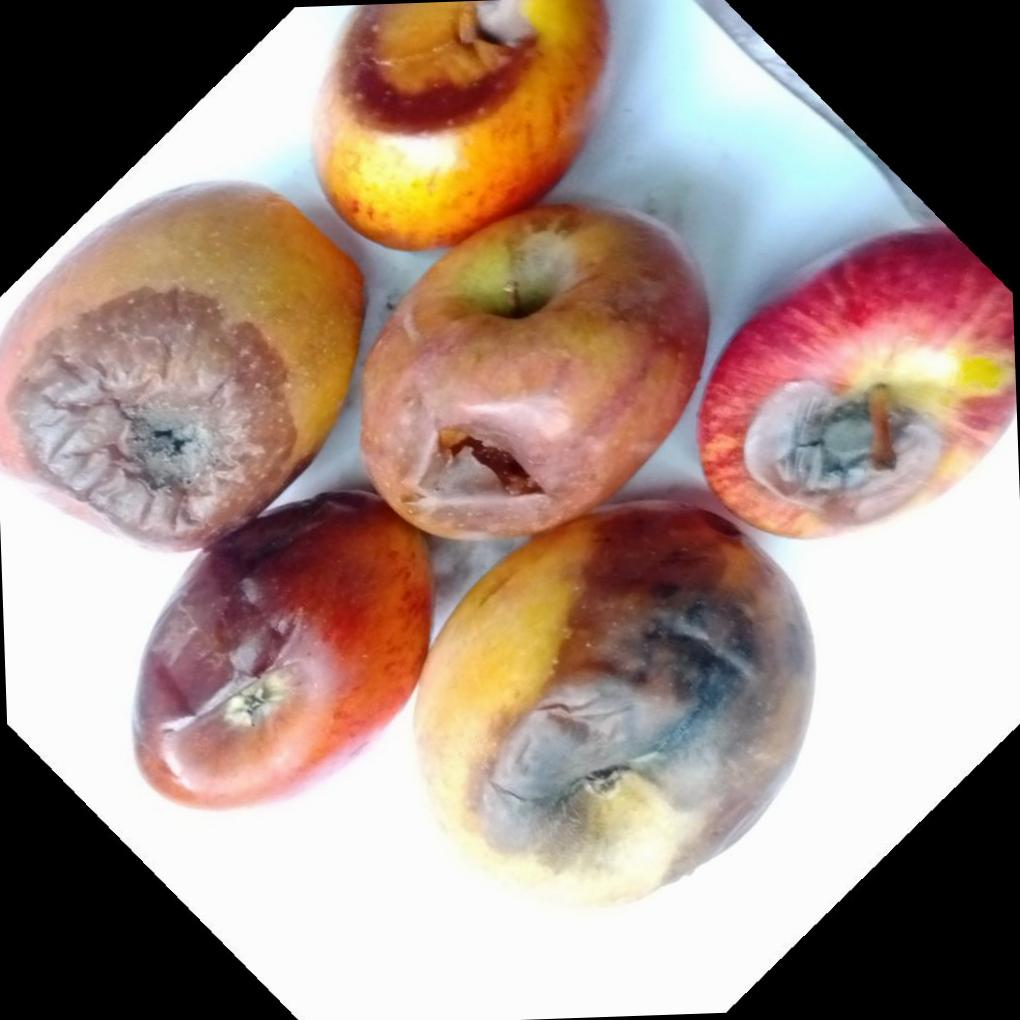FreshOrange: (0, 0, 1018, 893)
